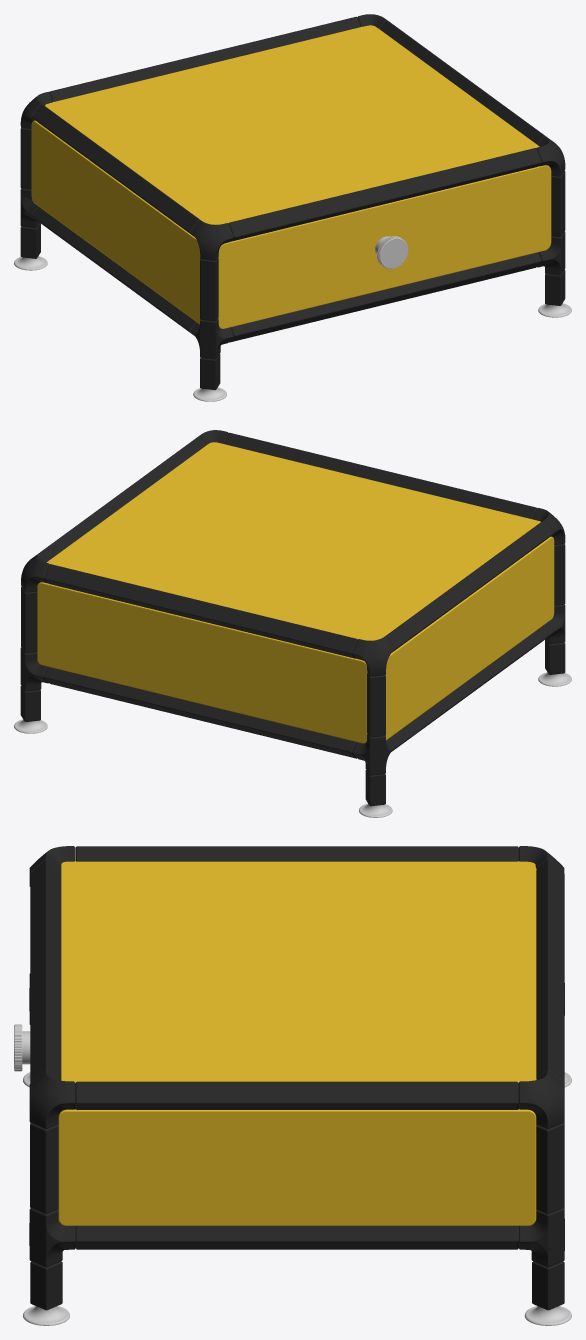
3 renders of one model, top to bottom at view 1: azimuth 30°, elevation 25°; view 2: azimuth 150°, elevation 25°; view 3: azimuth 270°, elevation 25°, orthographic. The views are drawn at different scales.
Parts seen in each view (by area): view 1: 420x374x79; view 2: 420x374x79; view 3: 420x374x79.
Boxes of the visible parts, bbox=[...] form: 420x374x79: bbox=[14, 14, 571, 401]; 420x374x79: bbox=[14, 430, 571, 817]; 420x374x79: bbox=[14, 846, 571, 1325].
Size of the model in its own units: 0.5099 by 0.2183 by 0.4707.
